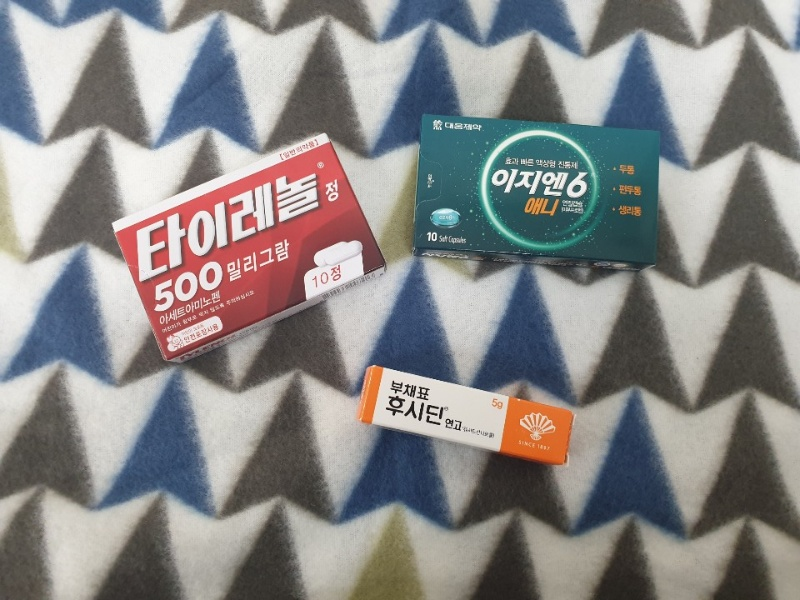ezn: (415, 114, 659, 271)
fucidin: (358, 364, 575, 466)
tylenol: (109, 131, 388, 361)
